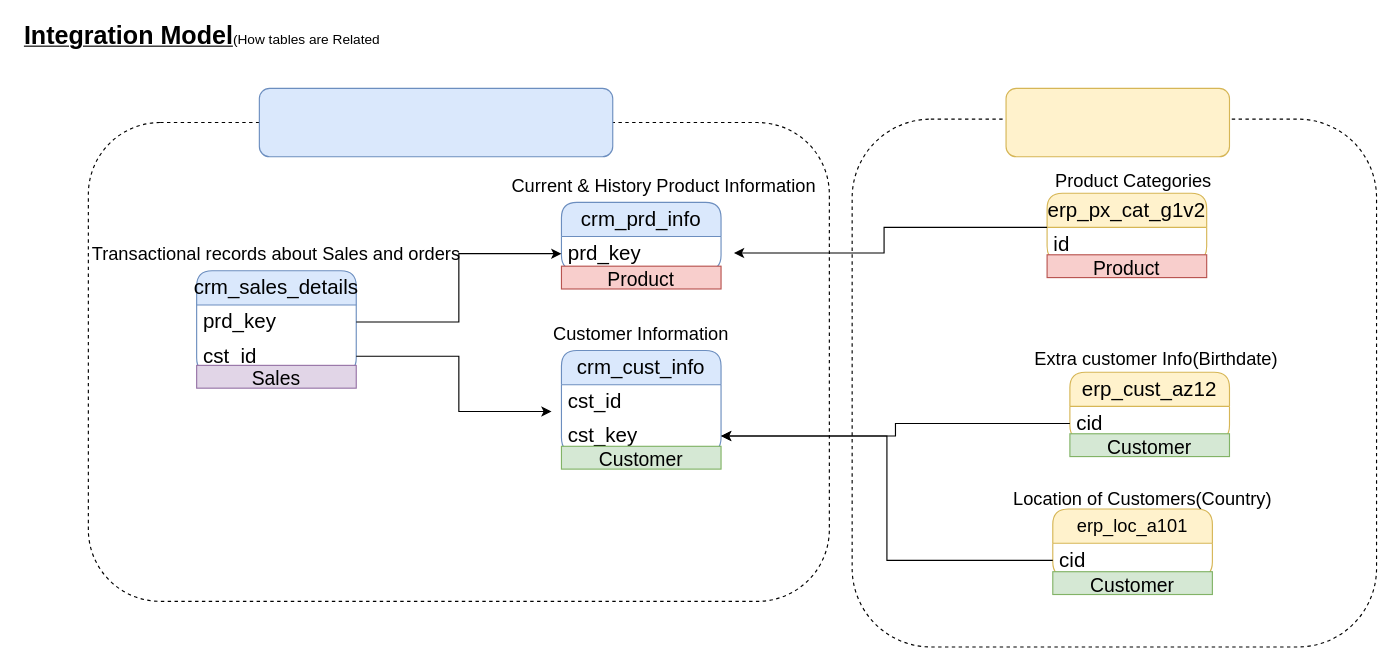
This 1397x667 diagram has some shape labels left out. Here are the shapes that lost their labels. From the top down, the centre of each, then its label:
At point 435,122: "CRM".
At point 1117,122: "ERP".
